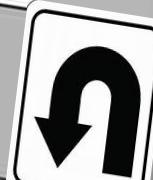back: (22, 31, 145, 180)
